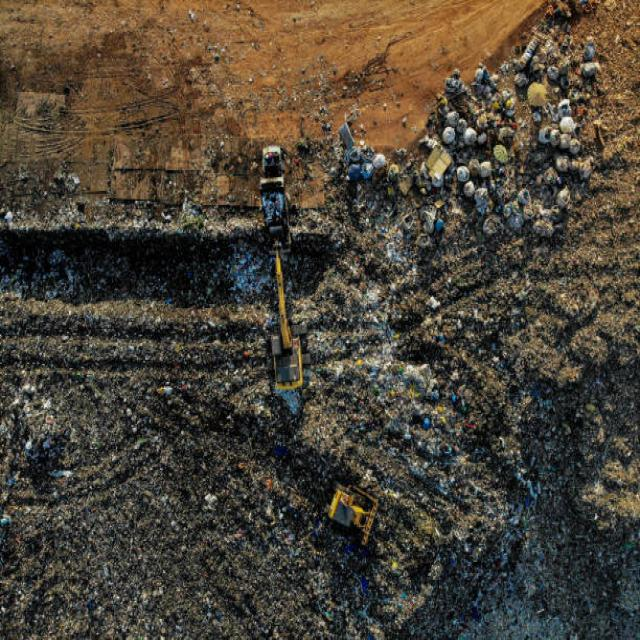glass: (16, 223, 614, 587)
